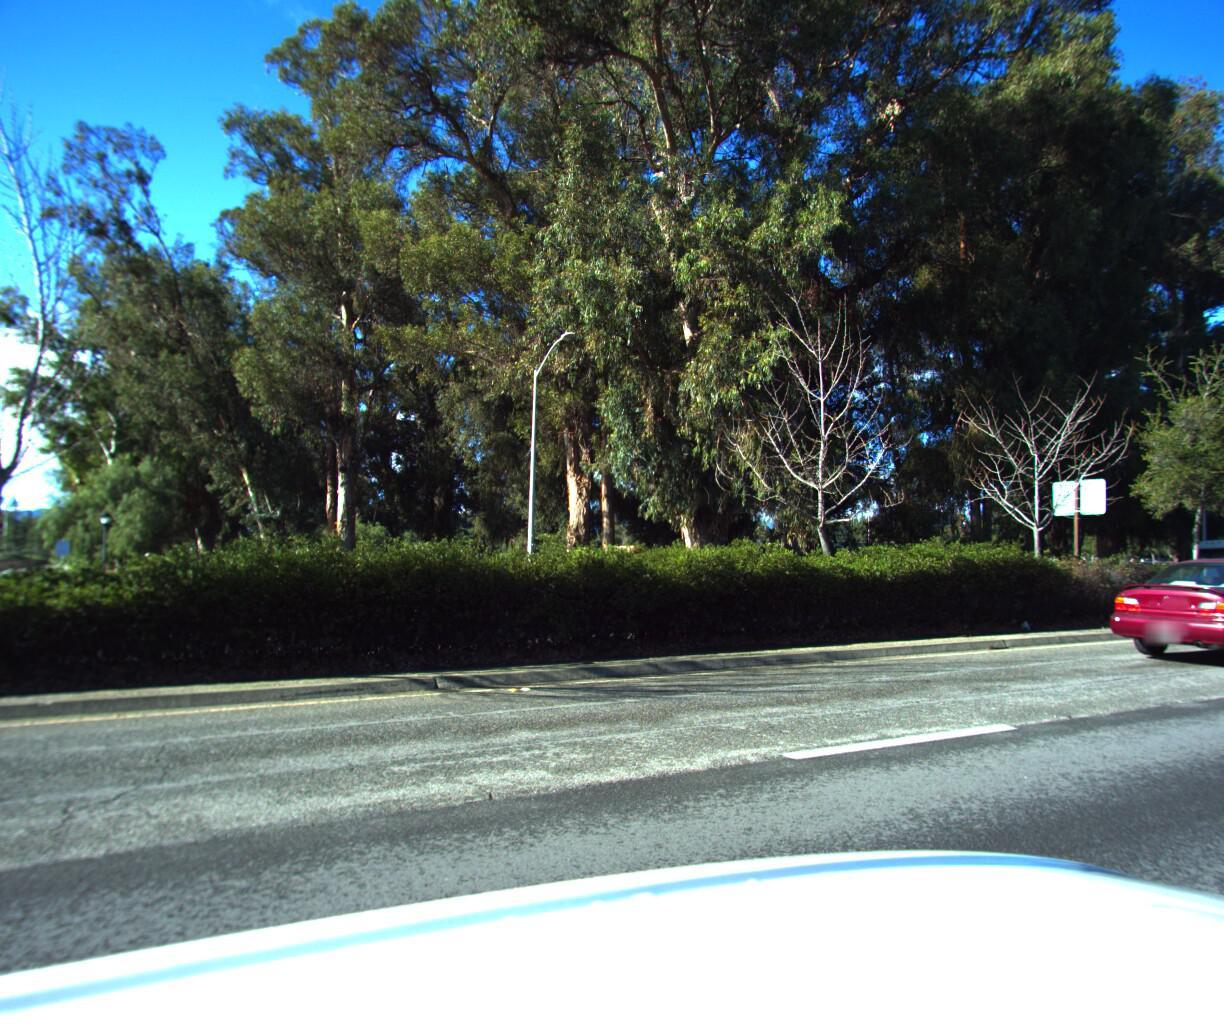car: (1095, 549, 1224, 674)
other_vehicle: (1171, 526, 1224, 591)
